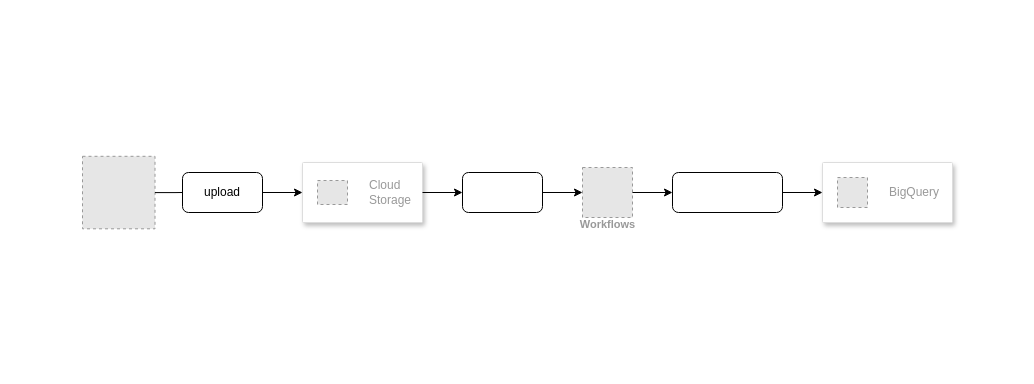
Some shapes in this 1034 by 384 pixel diagram are drawn without their labels. Grey dashed boxes stand in for pictures. The shapes that lost their labels are listed below. From the top down, each one's centre as x and y in pixels, then its label:
At point 502,192: "event".
At point 727,192: "delete & insert".
